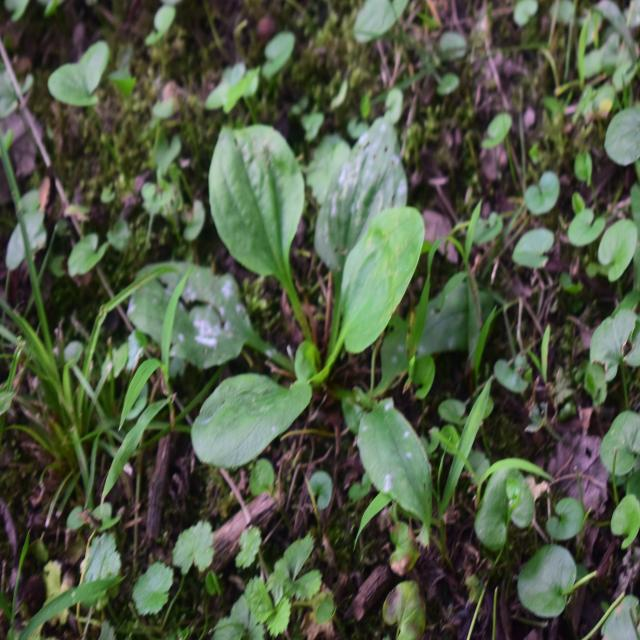plantain: (168, 128, 457, 522)
